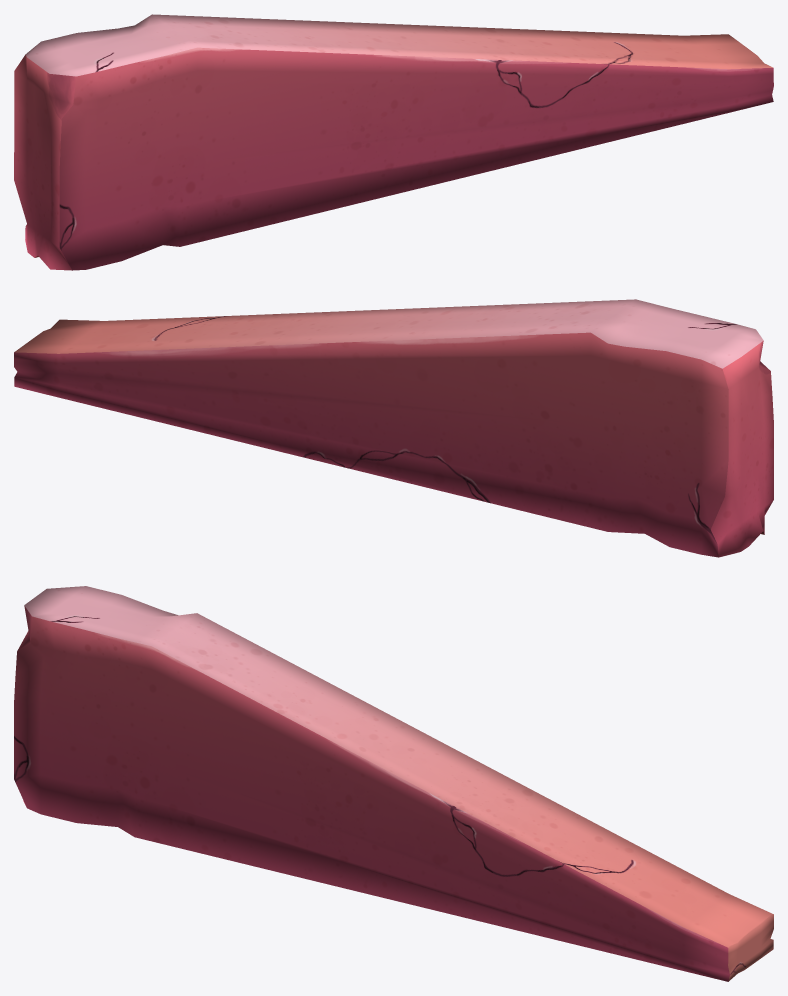
The model's file is platform_slanted_long.fbx.
The picture shows the model from 3 angles, top to bottom: view 1: azimuth 30°, elevation 25°; view 2: azimuth 150°, elevation 25°; view 3: azimuth 330°, elevation 25°; orthographic projection.
Visible parts, largest first — view 1: Cube.060; view 2: Cube.060; view 3: Cube.060.
Part boxes in pixels (<box>): Cube.060: <box>14,14,773,270</box>; Cube.060: <box>14,299,773,557</box>; Cube.060: <box>14,586,773,981</box>.
Bounding box in the file's own units: 721 × 188 × 80.03.
